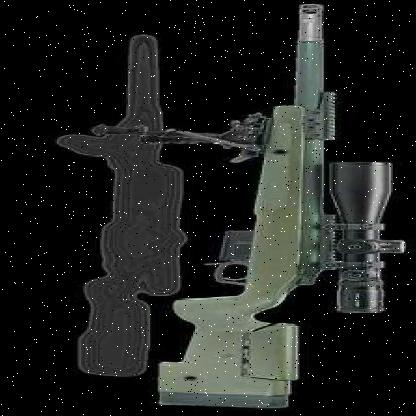rifle: (143, 2, 404, 412)
